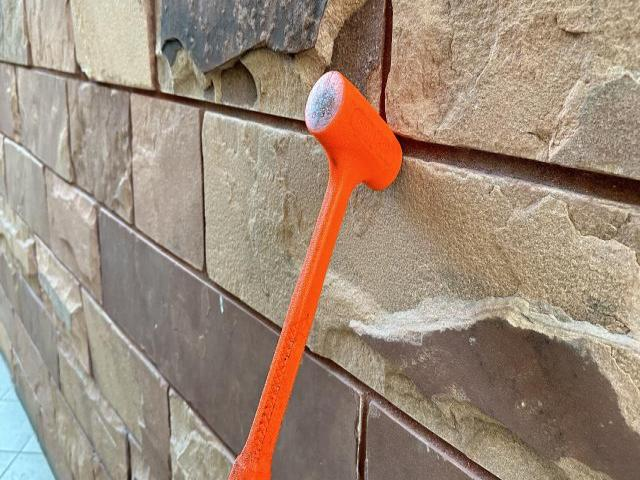hammer: (226, 72, 403, 480)
